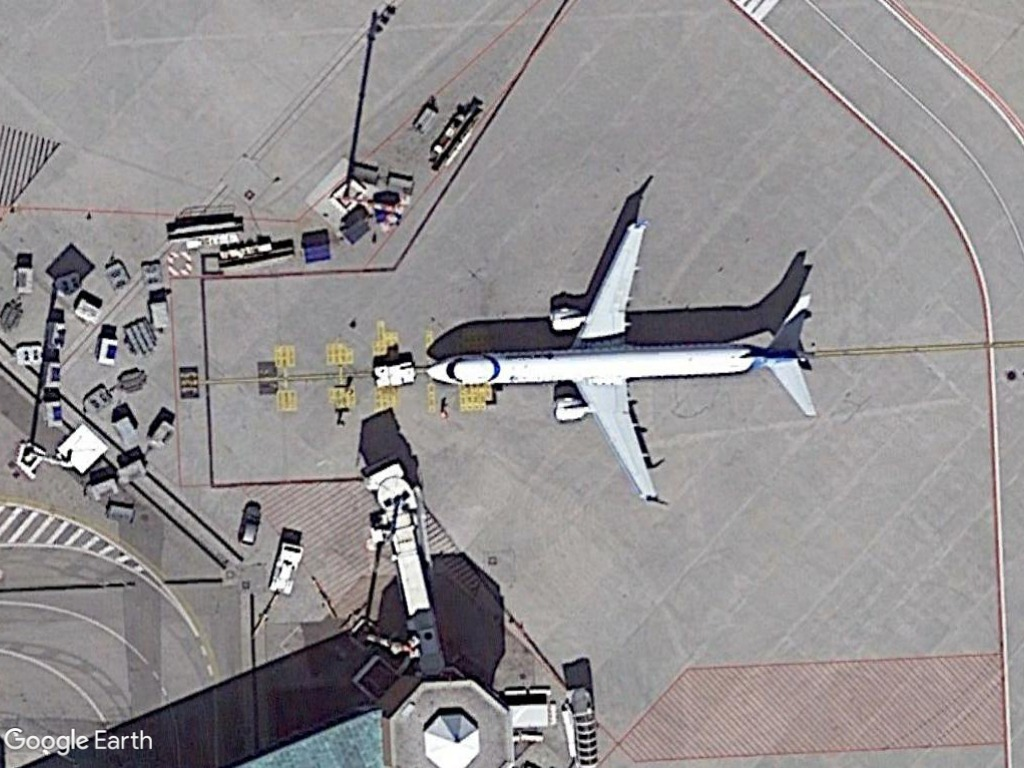airliner: (416, 214, 837, 513)
car: (232, 500, 265, 550)
pushbacktruck: (370, 359, 420, 393)
